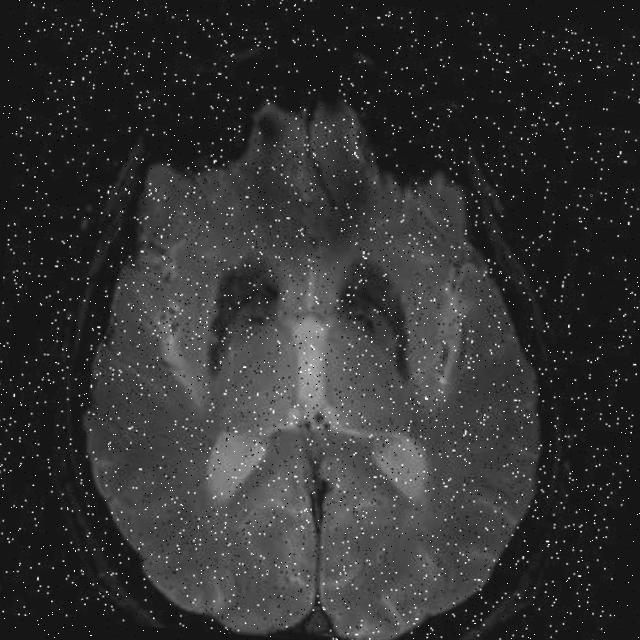EMCI: (183, 219, 298, 371), (330, 246, 404, 359)
